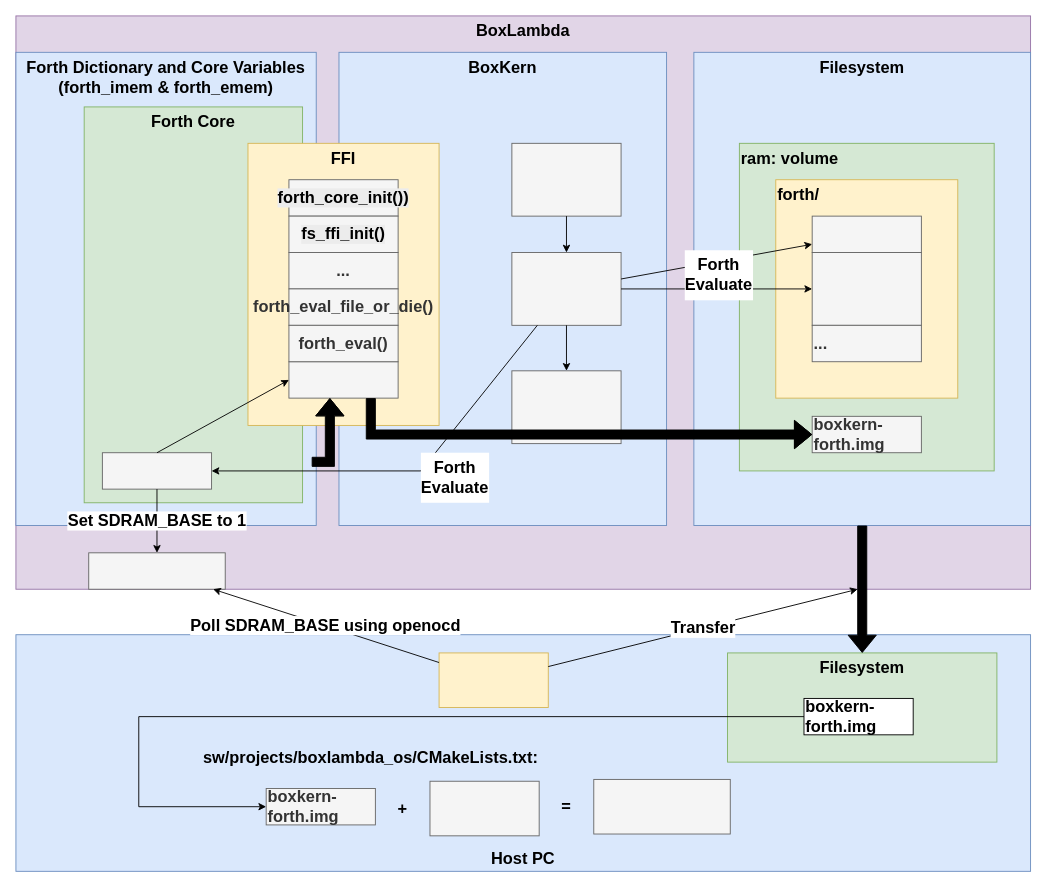
The diagram is 1047 pixels wide and 887 high, and some of its shapes have lost their labels. The shapes that lost their labels are listed below. From the top down, each one's centre as x and y in pixels, then its label:
At [566,179]: "crt0".
At [866,234]: "early.fs".
At [566,288]: "main()".
At [866,288]: "boxkern-includes.fs".
At [343,379]: "forth-save-state()".
At [566,407]: "FATFS".
At [156,470]: "fastboot-save".
At [156,570]: "SDRAM_BASE".
At [493,680]: "target.py".
At [484,808]: "boxkern executable".
At [661,806]: "boxkernforth executable".
